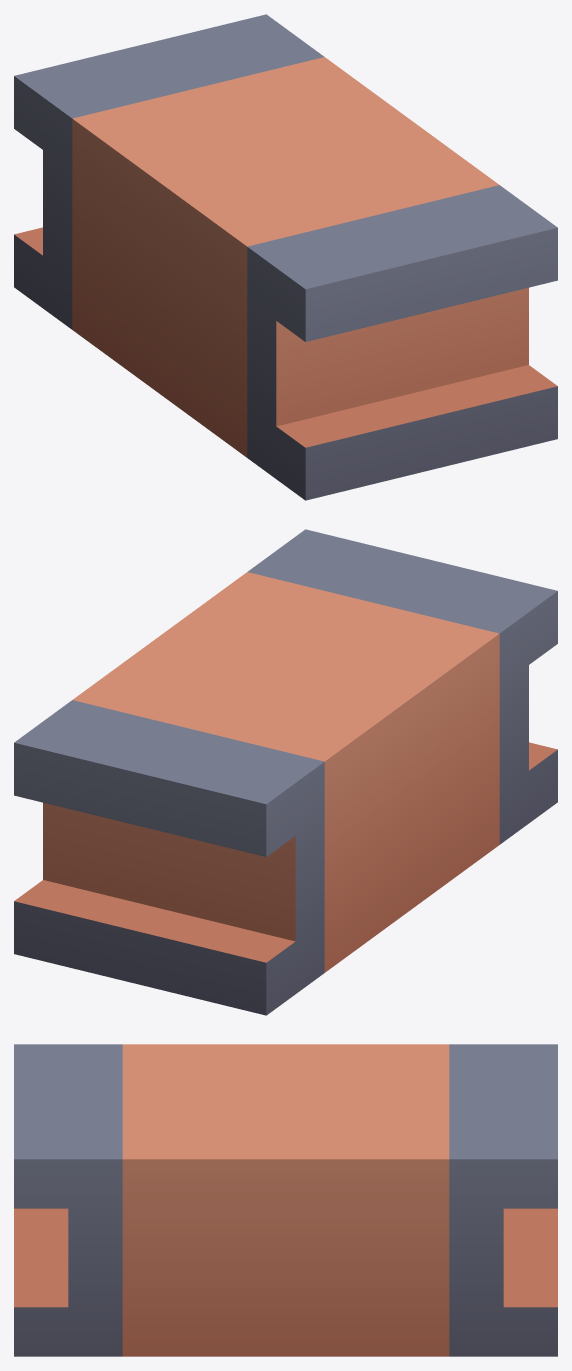
Rendered from conveyor-stripe-part-middle.obj.
3 views of the same model, one above another, from view 1: azimuth 30°, elevation 25°; view 2: azimuth 150°, elevation 25°; view 3: azimuth 270°, elevation 25° (orthographic). The views are drawn at different scales.
Visible parts, largest first — view 1: conveyor-stripe-part-middle; view 2: conveyor-stripe-part-middle; view 3: conveyor-stripe-part-middle.
Part boxes in pixels (bbox=[...]): conveyor-stripe-part-middle: bbox=[14, 14, 557, 500]; conveyor-stripe-part-middle: bbox=[14, 529, 557, 1015]; conveyor-stripe-part-middle: bbox=[14, 1044, 557, 1356].
Bounding box in the file's own units: 0.5 × 0.4 × 1.
